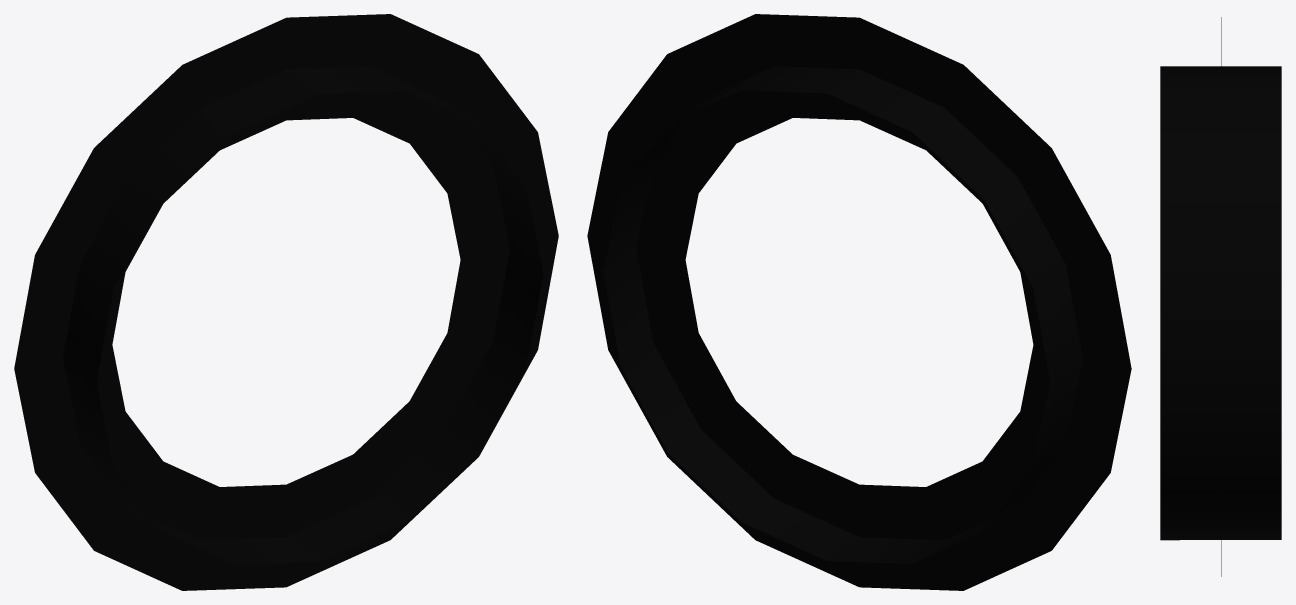
The picture shows the model from 3 angles, left to right: view 1: azimuth 30°, elevation 25°; view 2: azimuth 150°, elevation 25°; view 3: azimuth 270°, elevation 25°; orthographic projection. The views are drawn at different scales.
Visible parts, largest first — view 1: T1L2M008_25; view 2: T1L2M008_25; view 3: T1L2M008_25.
Boxes of the visible parts, x1,y1,x2,y2 form: T1L2M008_25: (14,14,558,590); T1L2M008_25: (587,14,1131,590); T1L2M008_25: (1160,17,1281,576).
Bounding box in the file's own units: 2.83 × 2.83 × 0.5957.
